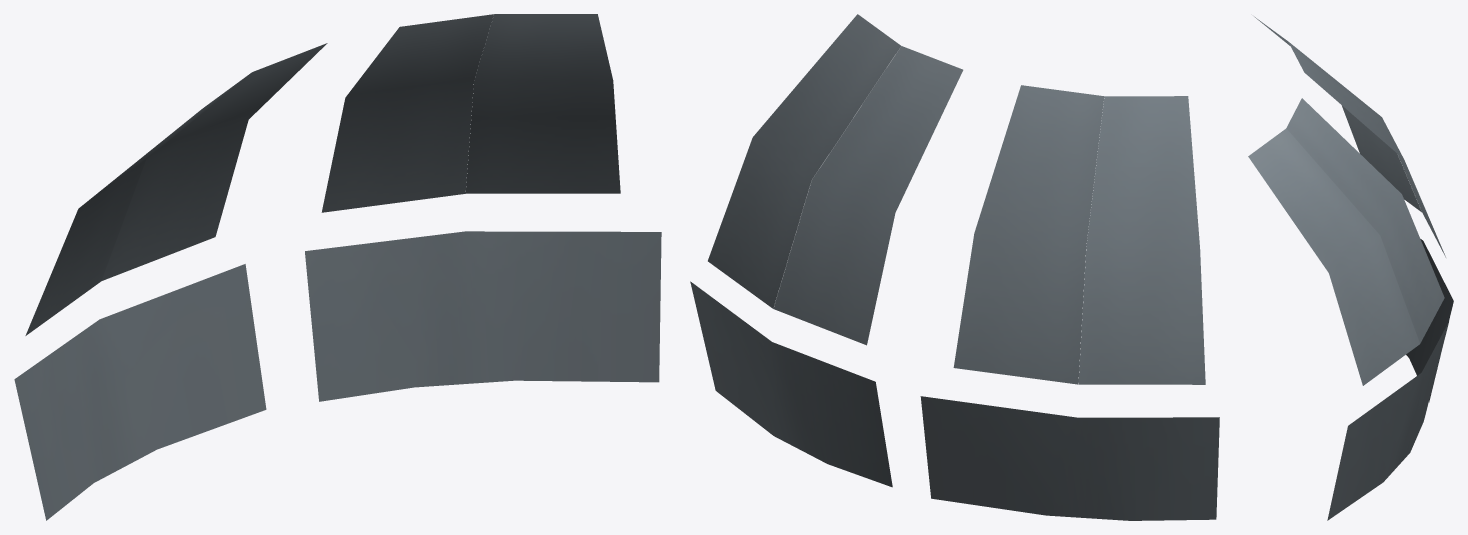
File: cor1_bldg_window_councilchamber02.fbx
3 views of the same model, side by side, from view 1: azimuth 30°, elevation 25°; view 2: azimuth 150°, elevation 25°; view 3: azimuth 270°, elevation 25° (orthographic). The views are drawn at different scales.
Visible parts, largest first — view 1: COR1_BLDG_window_councilchamber10, window_councilchamber3; view 2: window_councilchamber3, COR1_BLDG_window_councilchamber10; view 3: COR1_BLDG_window_councilchamber10, window_councilchamber3.
Part boxes in pixels (left/top/right/bottom): COR1_BLDG_window_councilchamber10: left=305, top=14, right=661, bottom=401; window_councilchamber3: left=14, top=43, right=327, bottom=520; window_councilchamber3: left=920, top=85, right=1219, bottom=520; COR1_BLDG_window_councilchamber10: left=690, top=14, right=963, bottom=487; COR1_BLDG_window_councilchamber10: left=1248, top=98, right=1448, bottom=520; window_councilchamber3: left=1254, top=16, right=1453, bottom=402.
Size of the model in its own units: 1942 by 1268 by 732.
